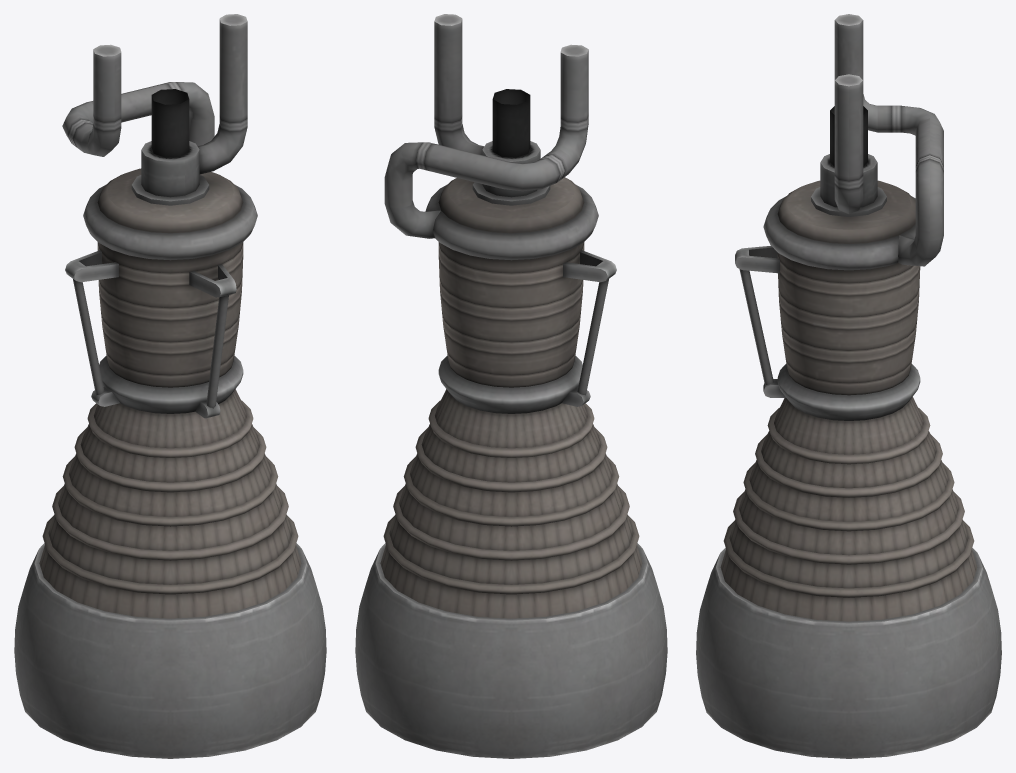
Rendered from blue_streak_engine_s0_2.obj.
3 renders of one model, left to right at view 1: azimuth 30°, elevation 25°; view 2: azimuth 150°, elevation 25°; view 3: azimuth 270°, elevation 25°, orthographic. The views are drawn at different scales.
Visible parts, largest first — view 1: nozzle2, mesh1; view 2: nozzle2, mesh1; view 3: nozzle2, mesh1.
Boxes of the visible parts, box(x1,y1,x2,y2) form: nozzle2: box(14, 389, 326, 758); mesh1: box(62, 14, 257, 418); nozzle2: box(355, 389, 667, 758); mesh1: box(384, 14, 616, 413); nozzle2: box(696, 397, 1001, 758); mesh1: box(735, 14, 943, 420).
Size of the model in its own units: 0.804 by 1.88 by 0.804.
